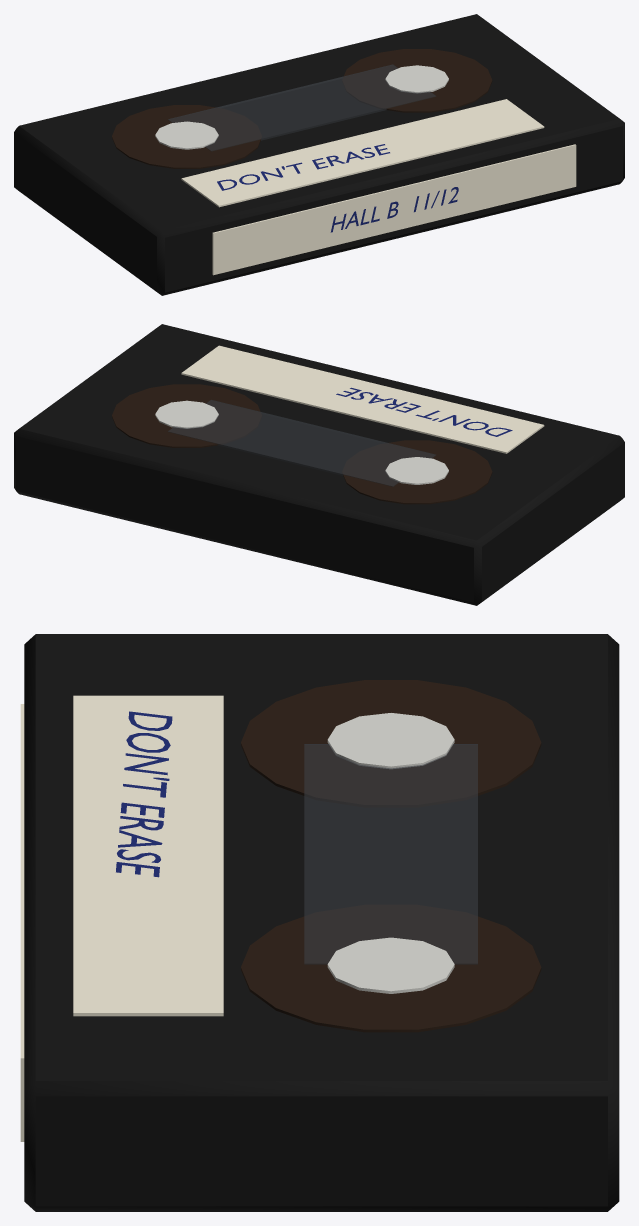
The model's file is item_tape.glb.
3 views of the same model, one above another, from view 1: azimuth 30°, elevation 25°; view 2: azimuth 150°, elevation 25°; view 3: azimuth 270°, elevation 25° (orthographic). The views are drawn at different scales.
Visible parts, largest first — view 1: Tape; view 2: Tape; view 3: Tape.
Part boxes in pixels (x1,y1,x2,y2): Tape: [14, 14, 624, 295]; Tape: [14, 324, 624, 605]; Tape: [20, 634, 619, 1211].
Bounding box in the file's own units: 0.187 × 0.0268 × 0.1038.
